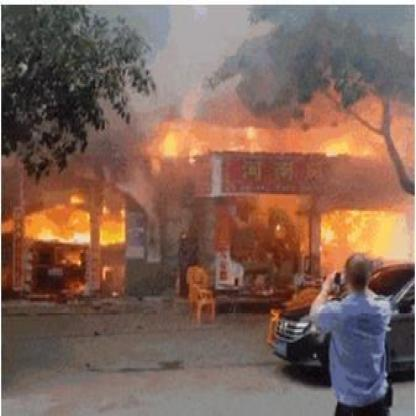fire: (150, 90, 412, 180), (7, 173, 142, 289), (242, 188, 408, 282)
